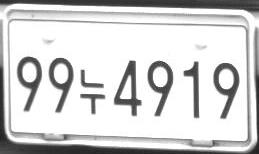1: (180, 60, 206, 118)
4: (113, 59, 141, 116)
9: (146, 59, 173, 117), (213, 62, 239, 119), (16, 55, 42, 111), (48, 57, 73, 113)
누: (79, 69, 105, 114)
